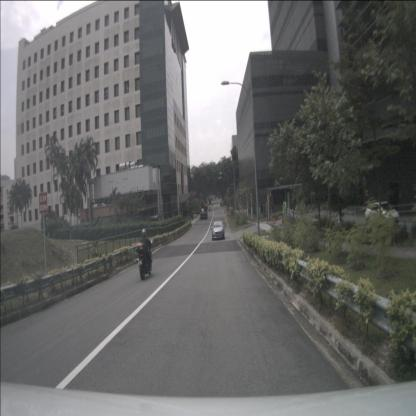human-pedestrian-adult: (364, 190, 370, 224)
vehicle-bicycle: (91, 240, 100, 260)
vehicle-car: (364, 200, 400, 228), (210, 221, 226, 241), (199, 207, 208, 220)
vehicle-motorcycle: (136, 228, 153, 280)
